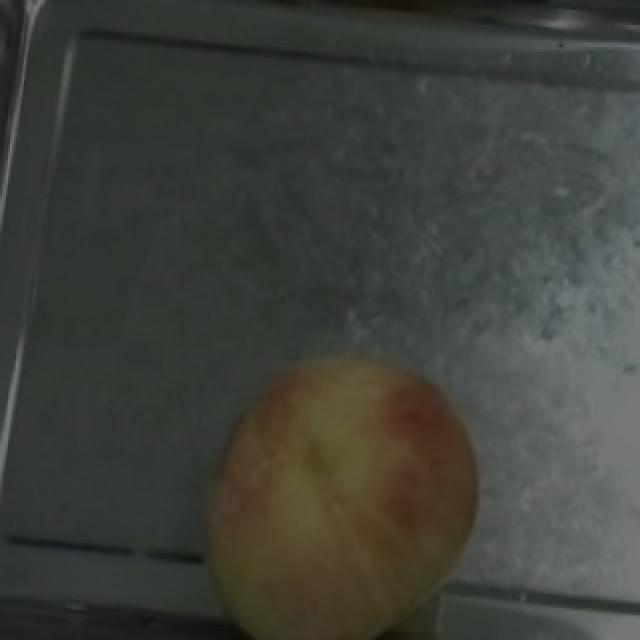Fruit: (176, 335, 496, 640)
